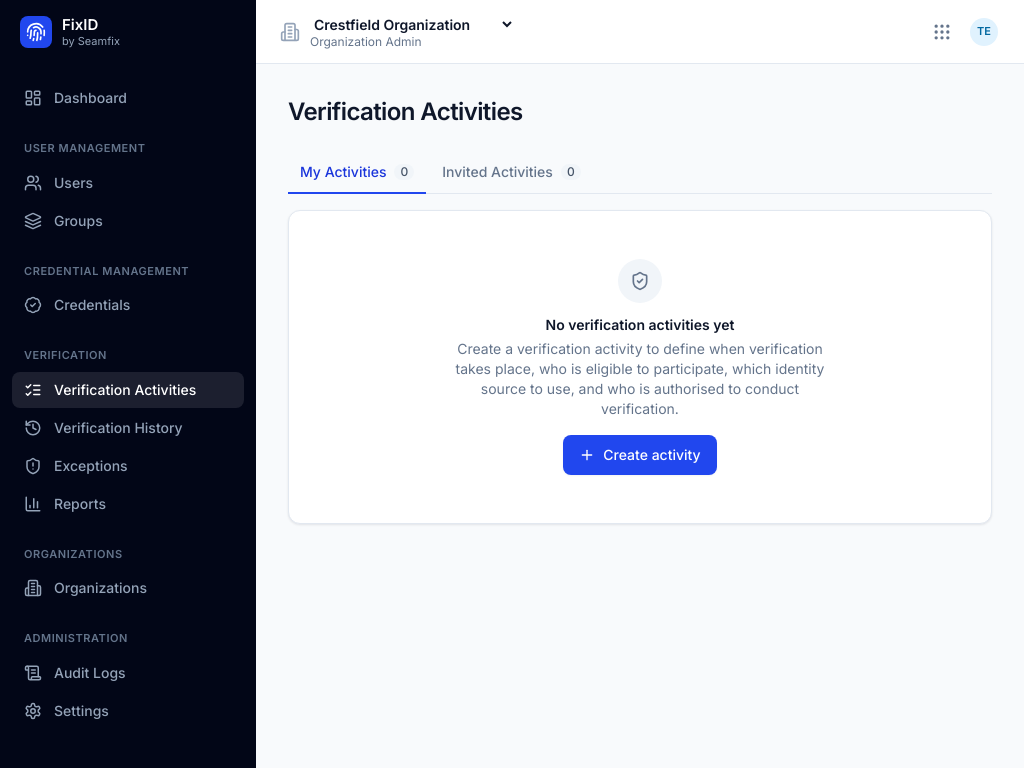
Test: screens › shows the first-time empty state for an organization without activities, and starts the wizard from it
Expected: the heading "No verification activities yet" is shown, [546,315,734,335]
Expected: the text "Create a verification activity to define when verification takes place, who is eligible to participate, which identity s" is shown, [456,340,824,417]
Click the link "Create activity" at (640, 455), box [563,435,717,475]
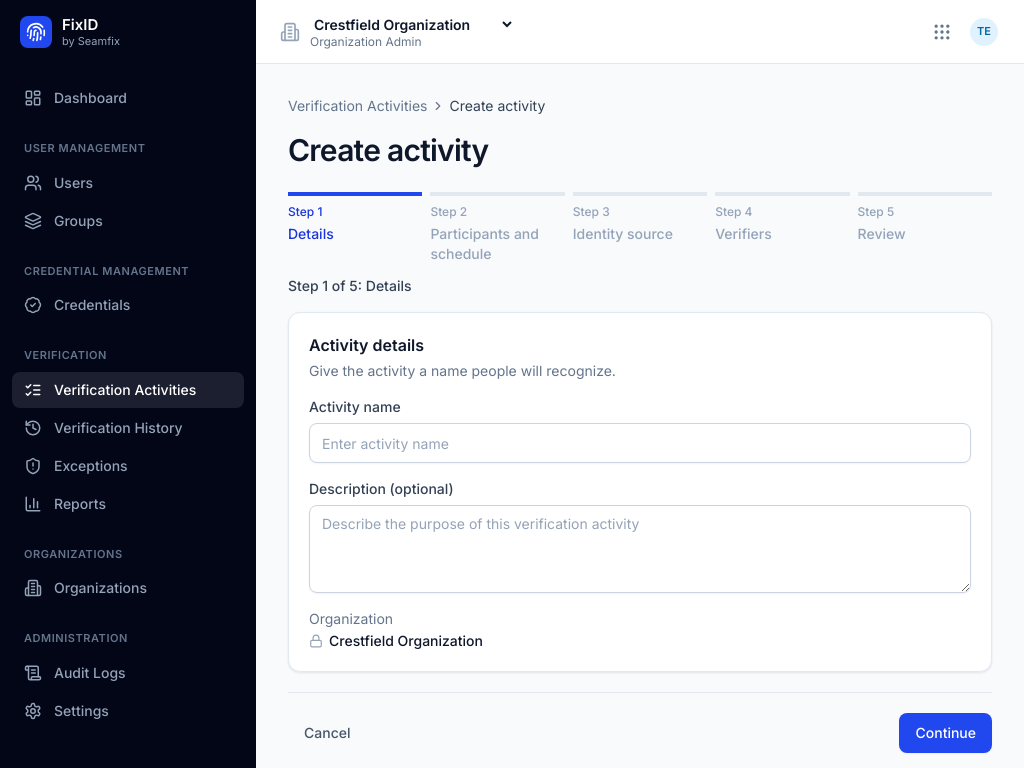
Expected: the text "Step 1 of 5: Details" is shown, [288,277,412,294]
